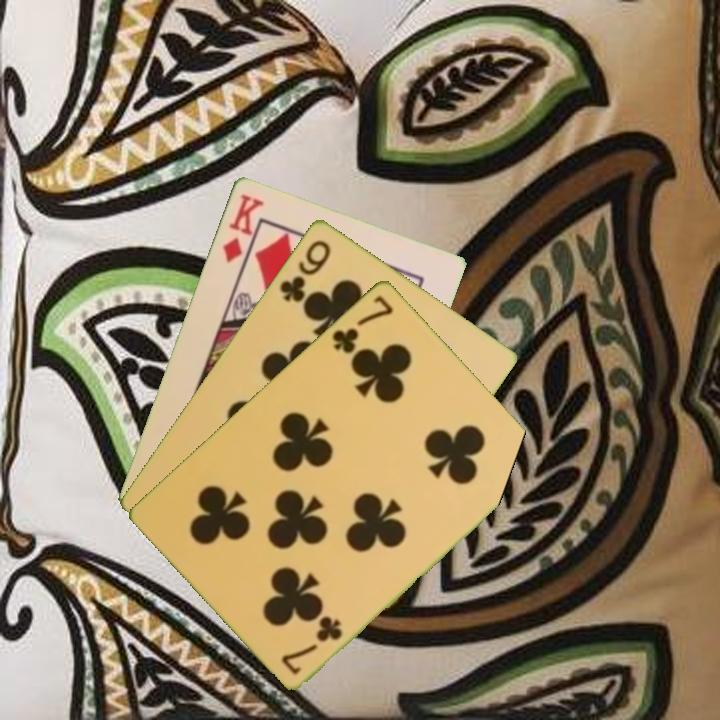7c: (277, 611, 345, 677), (328, 291, 396, 356)
9c: (276, 235, 334, 305)
Kd: (219, 190, 266, 266)
